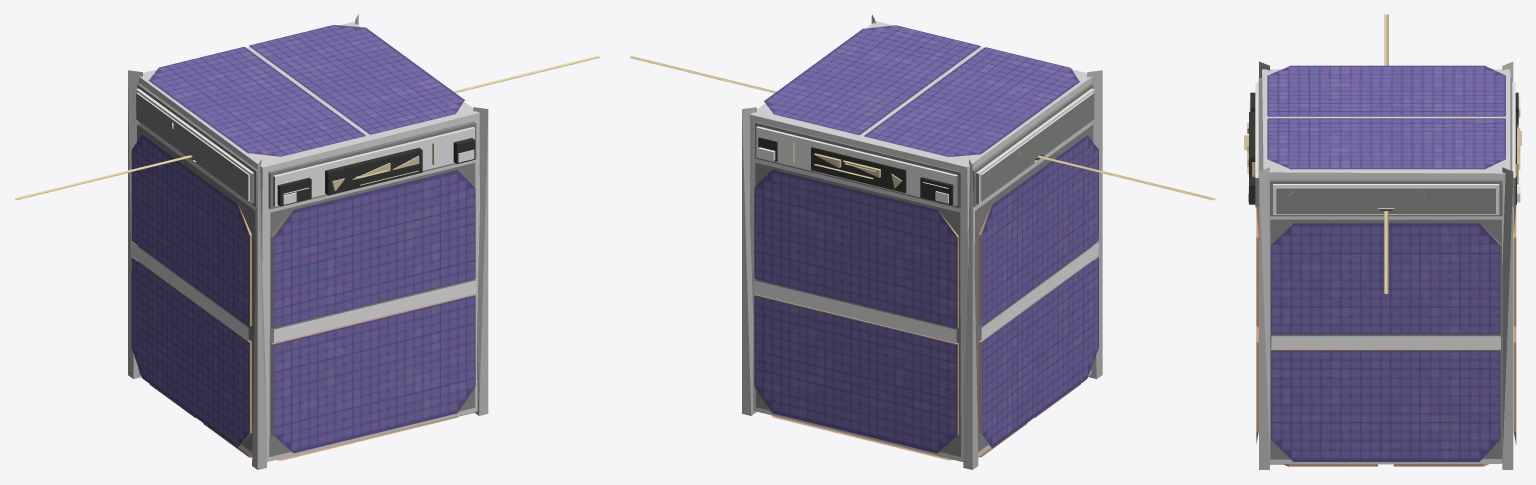
The picture shows the model from 3 angles, left to right: view 1: azimuth 30°, elevation 25°; view 2: azimuth 150°, elevation 25°; view 3: azimuth 270°, elevation 25°; orthographic projection. The views are drawn at different scales.
Visible parts, largest first — view 1: Layer_0; view 2: Layer_0; view 3: Layer_0.
Boxes of the visible parts, x1,y1,x2,y2 form: Layer_0: (14, 14, 600, 469); Layer_0: (629, 15, 1215, 469); Layer_0: (1244, 14, 1521, 469).
Size of the model in its own units: 5.19 by 2.6 by 2.18.
Materials: 11 (1 with a texture image).
